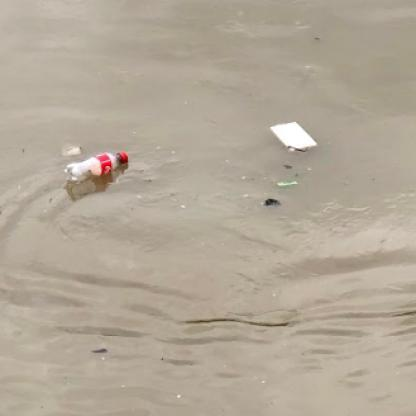foam: (269, 121, 317, 151)
plastic bottle: (64, 151, 129, 182)
